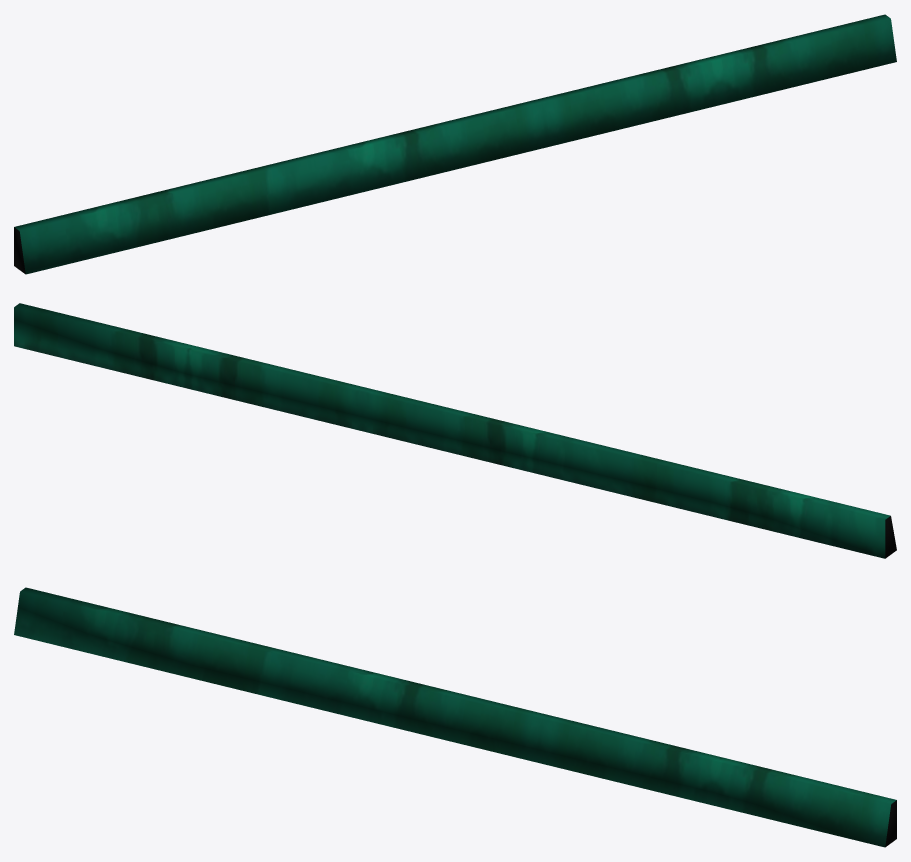
Rendered from Frogames_DP_lowwall_5.FBX.
The picture shows the model from 3 angles, top to bottom: view 1: azimuth 30°, elevation 25°; view 2: azimuth 150°, elevation 25°; view 3: azimuth 330°, elevation 25°; orthographic projection.
Visible parts, largest first — view 1: lowwall_5; view 2: lowwall_5; view 3: lowwall_5.
Part boxes in pixels (x1,y1,x2,y2): lowwall_5: [14, 14, 896, 274]; lowwall_5: [14, 303, 896, 558]; lowwall_5: [14, 587, 896, 847].
Bounding box in the file's own units: 50 × 1.17 × 2.14.
